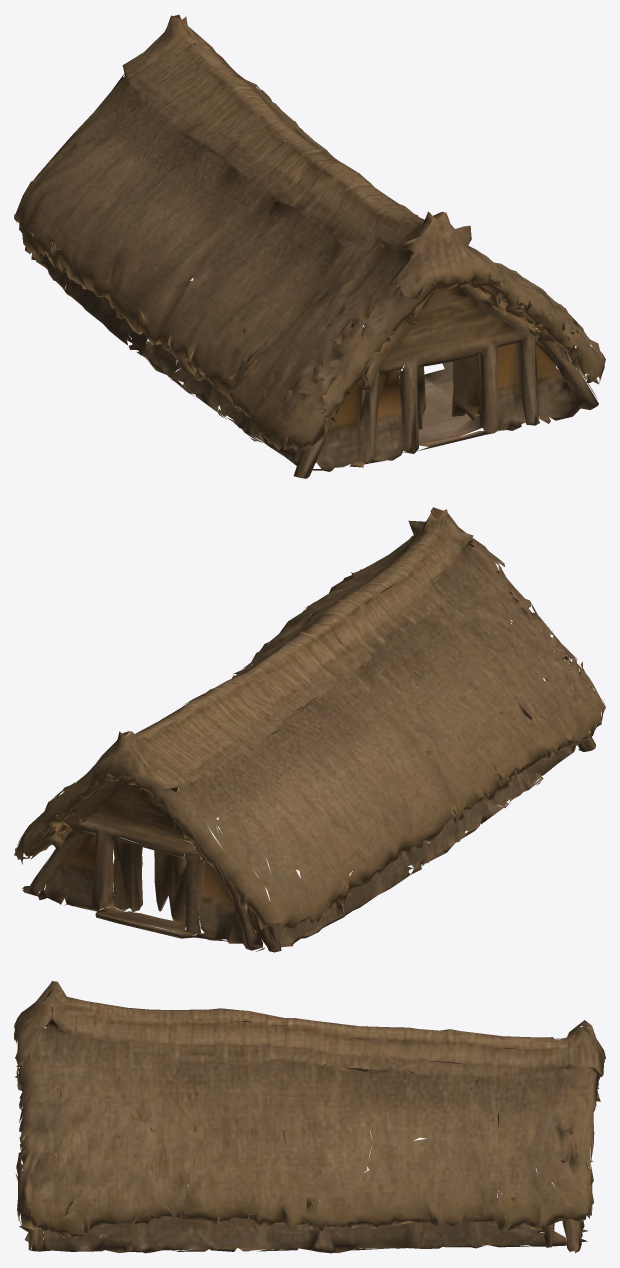
File: peamaja_mid.glb
3 views of the same model, one above another, from view 1: azimuth 30°, elevation 25°; view 2: azimuth 150°, elevation 25°; view 3: azimuth 270°, elevation 25° (orthographic). The views are drawn at different scales.
Parts seen in each view (by area): view 1: model; view 2: model; view 3: model.
Part boxes in pixels (x1=…): model: x1=14, y1=14, x2=605, y2=478; model: x1=14, y1=507, x2=605, y2=952; model: x1=14, y1=981, x2=605, y2=1253.
Size of the model in its own units: 0.5808 by 0.3853 by 0.9994.
Materials: 1 (1 with a texture image).
